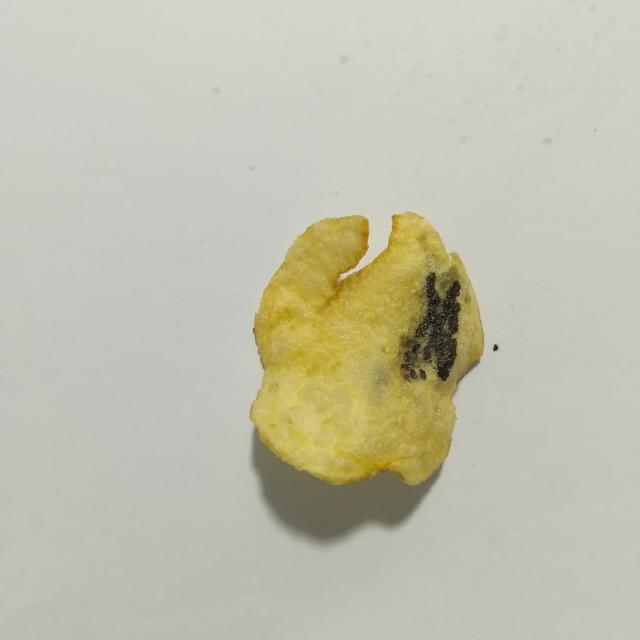chip: (250, 212, 484, 484)
damaged: (400, 272, 460, 381), (493, 344, 498, 351)
semi-damaged: (435, 265, 458, 299)
